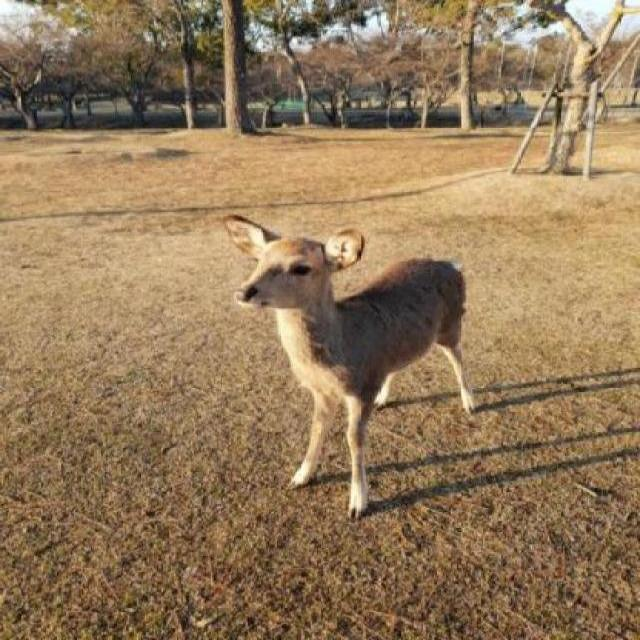deer: (216, 213, 484, 527)
